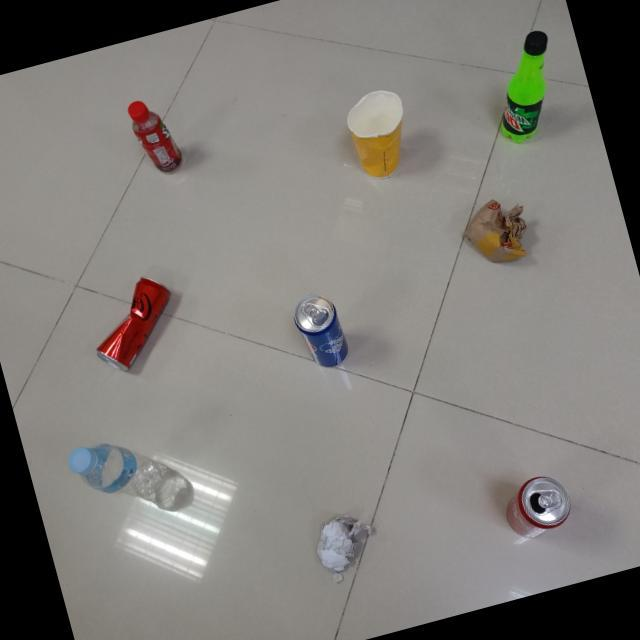recyclable waste: (74, 264, 193, 382), (471, 20, 578, 151), (62, 420, 183, 526), (334, 76, 424, 188), (451, 186, 544, 276), (492, 463, 582, 550), (302, 503, 388, 586), (121, 86, 192, 184), (285, 284, 357, 377)
